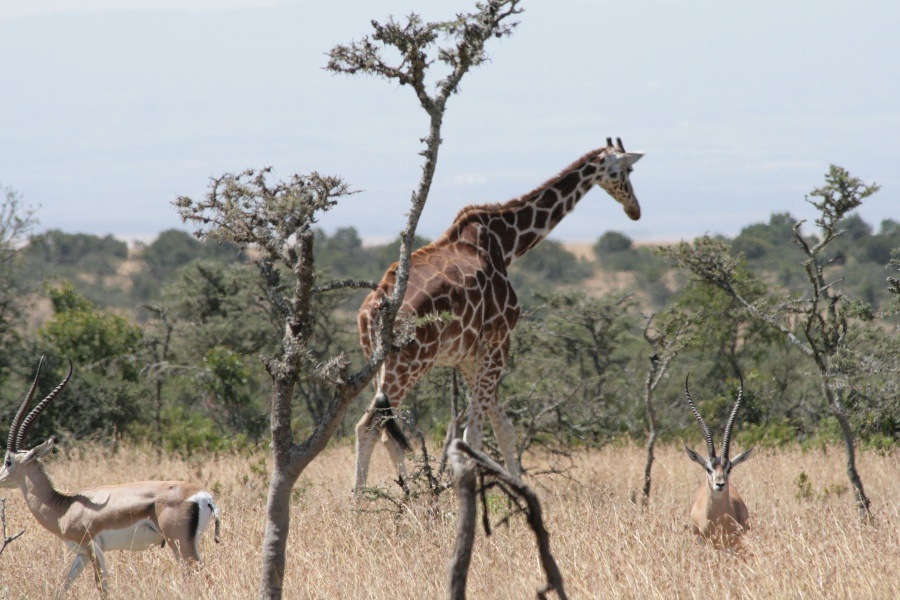giraffe: (336, 125, 654, 496)
